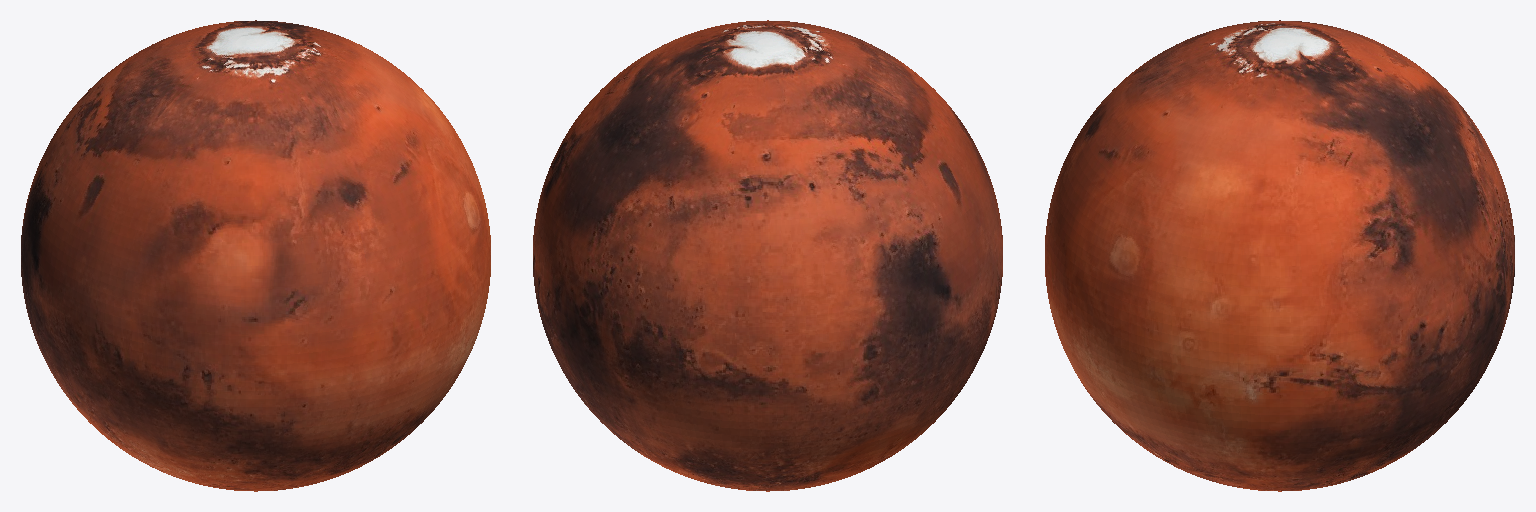
The picture shows the model from 3 angles: view 1: azimuth 30°, elevation 25°; view 2: azimuth 150°, elevation 25°; view 3: azimuth 270°, elevation 25°; orthographic projection.
Visible parts, largest first — view 1: cylindrically_mapped_sphere.001; view 2: cylindrically_mapped_sphere.001; view 3: cylindrically_mapped_sphere.001.
Boxes of the visible parts, x1,y1,x2,y2 form: cylindrically_mapped_sphere.001: [21, 20, 490, 491]; cylindrically_mapped_sphere.001: [533, 20, 1002, 491]; cylindrically_mapped_sphere.001: [1045, 20, 1514, 491].
Bounding box in the file's own units: 1000 × 1000 × 1000.
Materials: 1 (1 with a texture image).